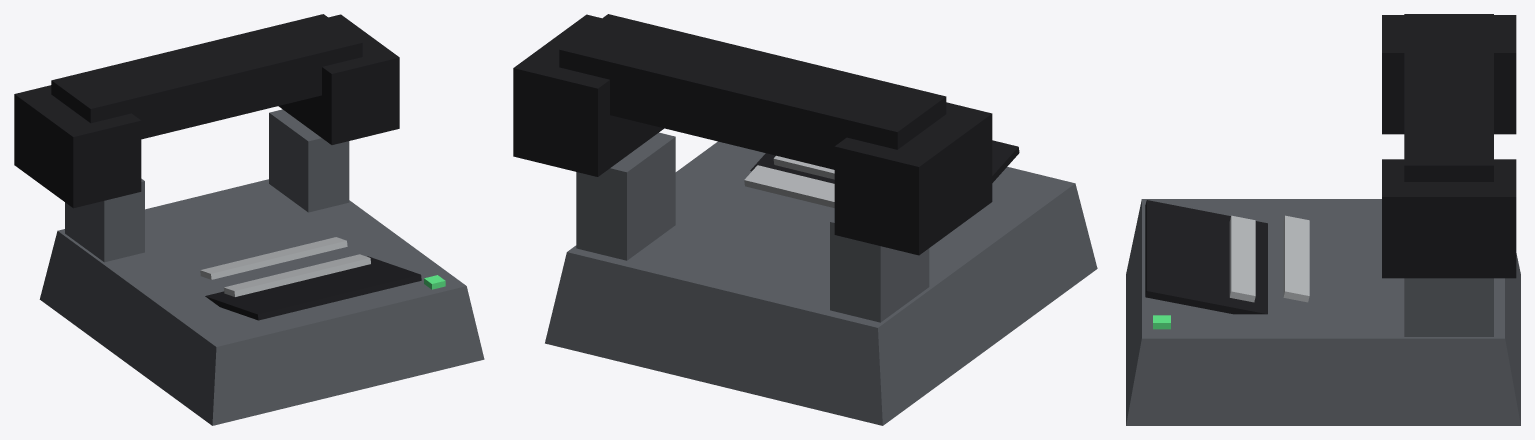
File: GO_Phone_01.glb
The picture shows the model from 3 angles, left to right: view 1: azimuth 30°, elevation 25°; view 2: azimuth 150°, elevation 25°; view 3: azimuth 270°, elevation 25°; orthographic projection. The views are drawn at different scales.
Parts seen in each view (by area): view 1: GO_Phone_01; view 2: GO_Phone_01; view 3: GO_Phone_01.
Part boxes in pixels (bbox=[...]): GO_Phone_01: bbox=[14, 14, 484, 425]; GO_Phone_01: bbox=[513, 14, 1097, 425]; GO_Phone_01: bbox=[1126, 14, 1520, 425].
Size of the model in its own units: 0.24 by 0.16 by 0.22.
1 material, 1 textured.
